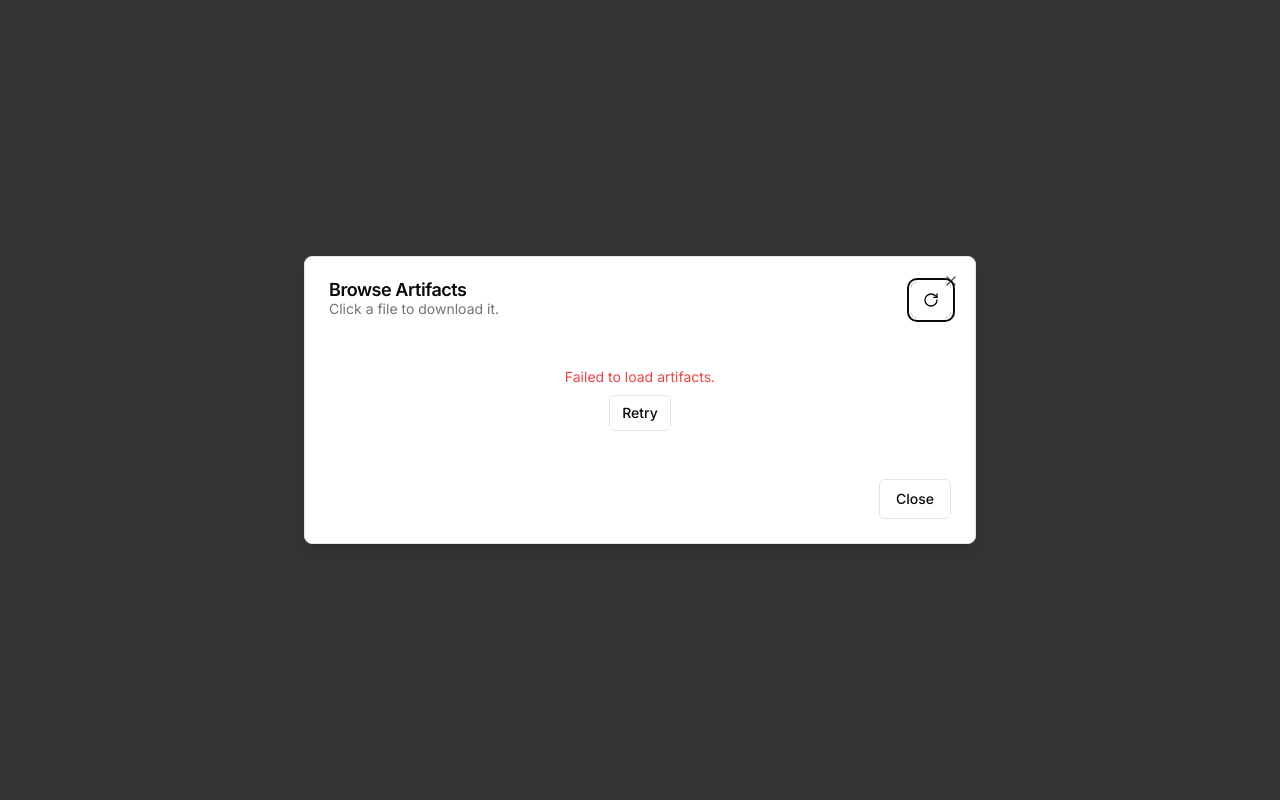
Test case: ArtifactPickerDialog › offers a retry after a failed listing
Expected: the text "Failed to load artifacts." is shown, [565,368,715,385]
Click the button "Retry" at (640, 413), box [609,395,671,431]
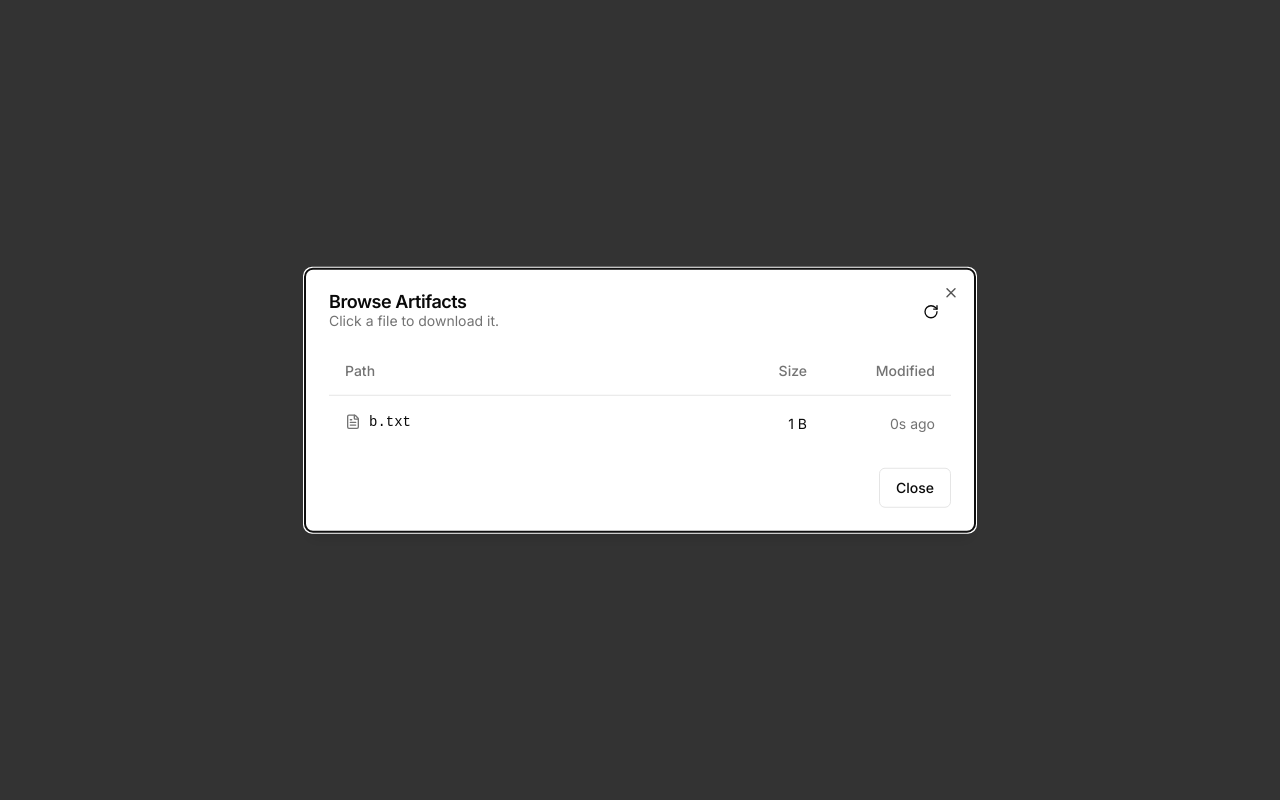
Expected: the text "b.txt" is shown, [345,411,411,431]
